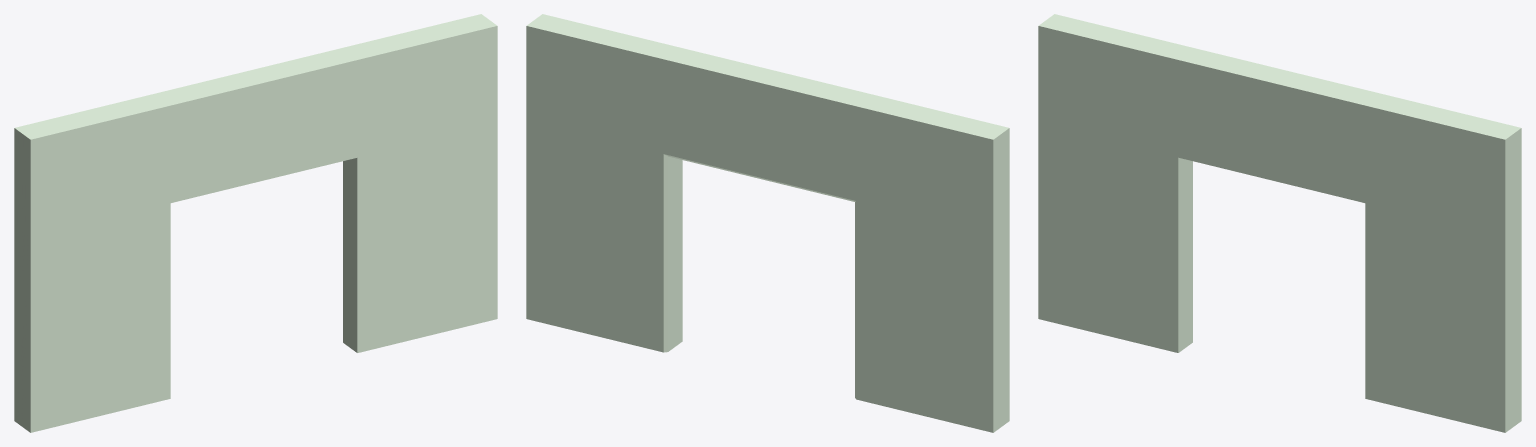
File: shutter_frame.obj
The picture shows the model from 3 angles, left to right: view 1: azimuth 30°, elevation 25°; view 2: azimuth 150°, elevation 25°; view 3: azimuth 330°, elevation 25°; orthographic projection.
Visible parts, largest first — view 1: Shutter_frame; view 2: Shutter_frame; view 3: Shutter_frame.
Part boxes in pixels (x1,y1,x2,y2): Shutter_frame: (14,14,497,432); Shutter_frame: (526,14,1009,432); Shutter_frame: (1038,14,1521,432).
Size of the model in its own units: 500 by 300 by 30.
